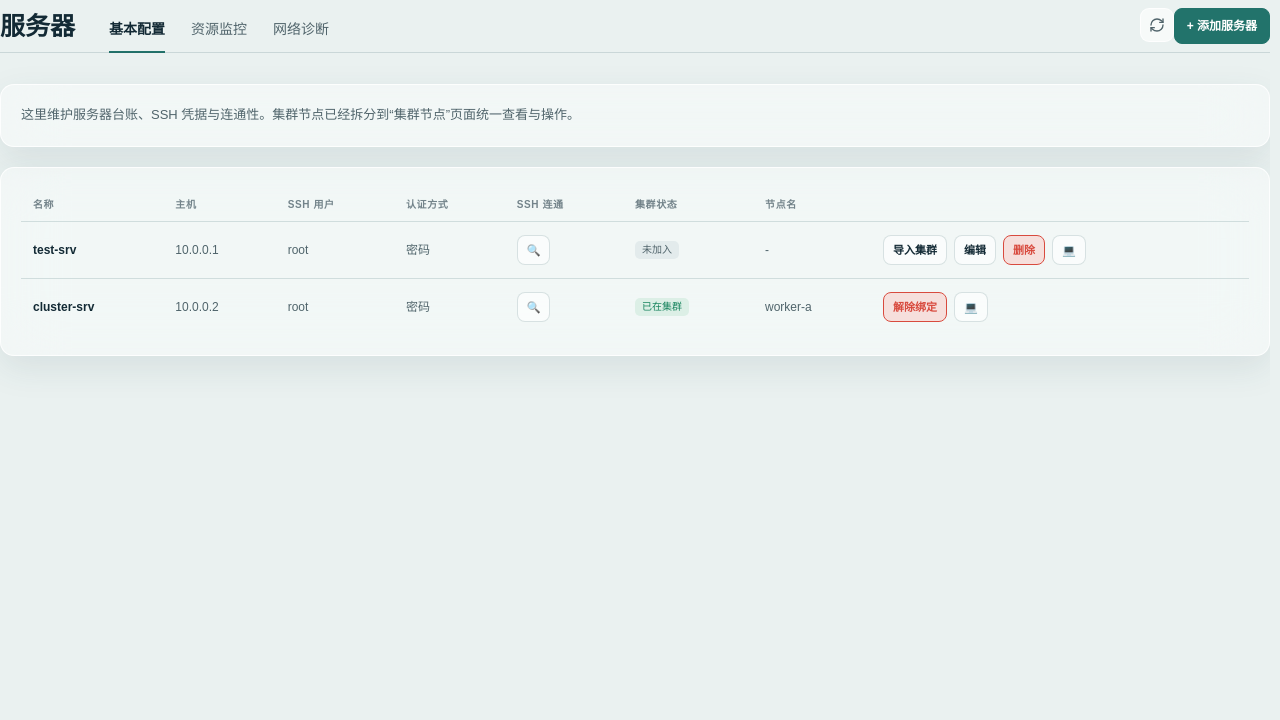
Test: Servers view › keeps the server form open and shows its error when saving fails
Click the button "+ 添加服务器" at (1222, 26), box left=1174, top=8, right=1270, bottom=44
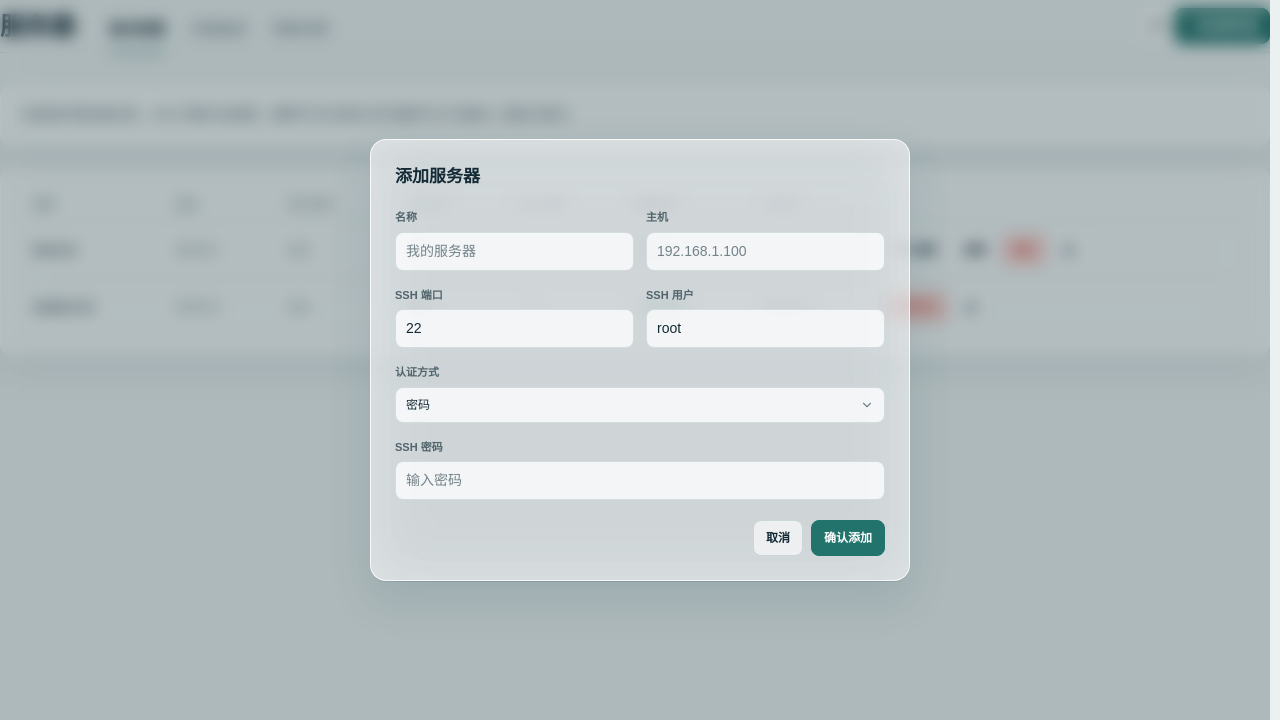
Type "edge-a" into the field with placeholder "我的服务器" at (514, 251), box left=395, top=232, right=634, bottom=271
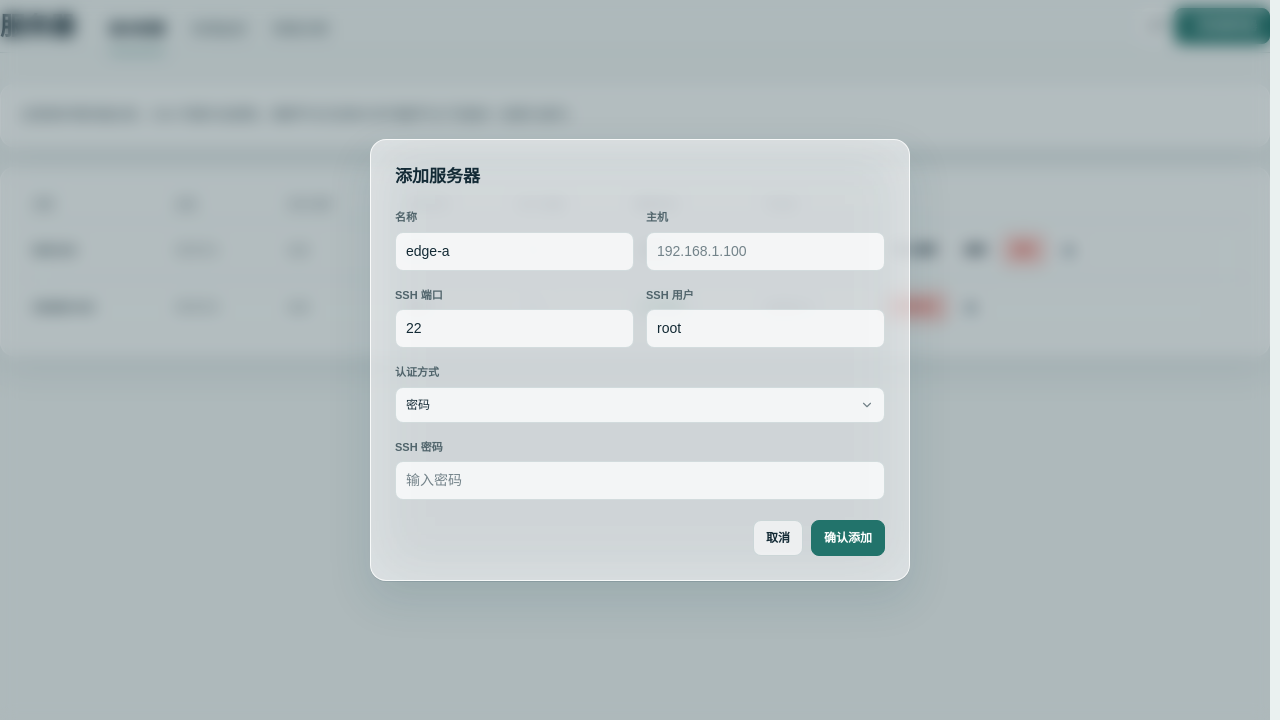
Type "10.0.0.9" into the field with placeholder "192.168.1.100" at (766, 251), box left=646, top=232, right=885, bottom=271
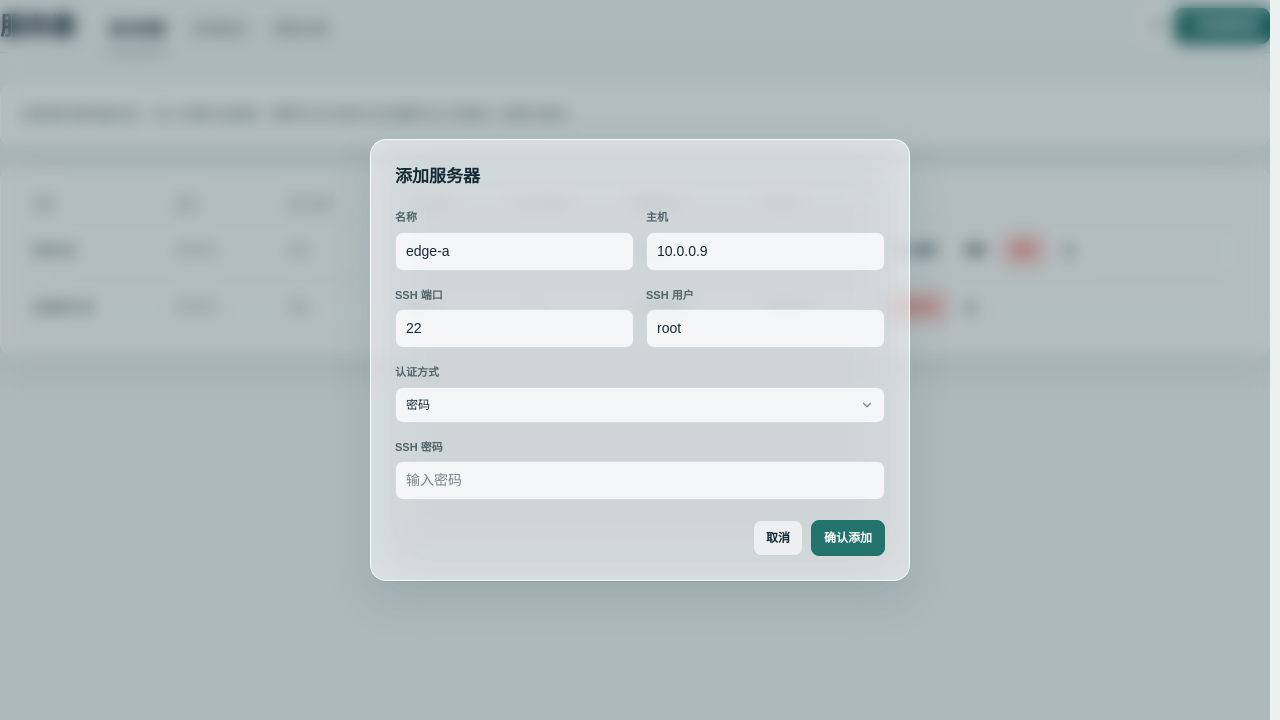
Submit the form, box left=395, top=209, right=885, bottom=556
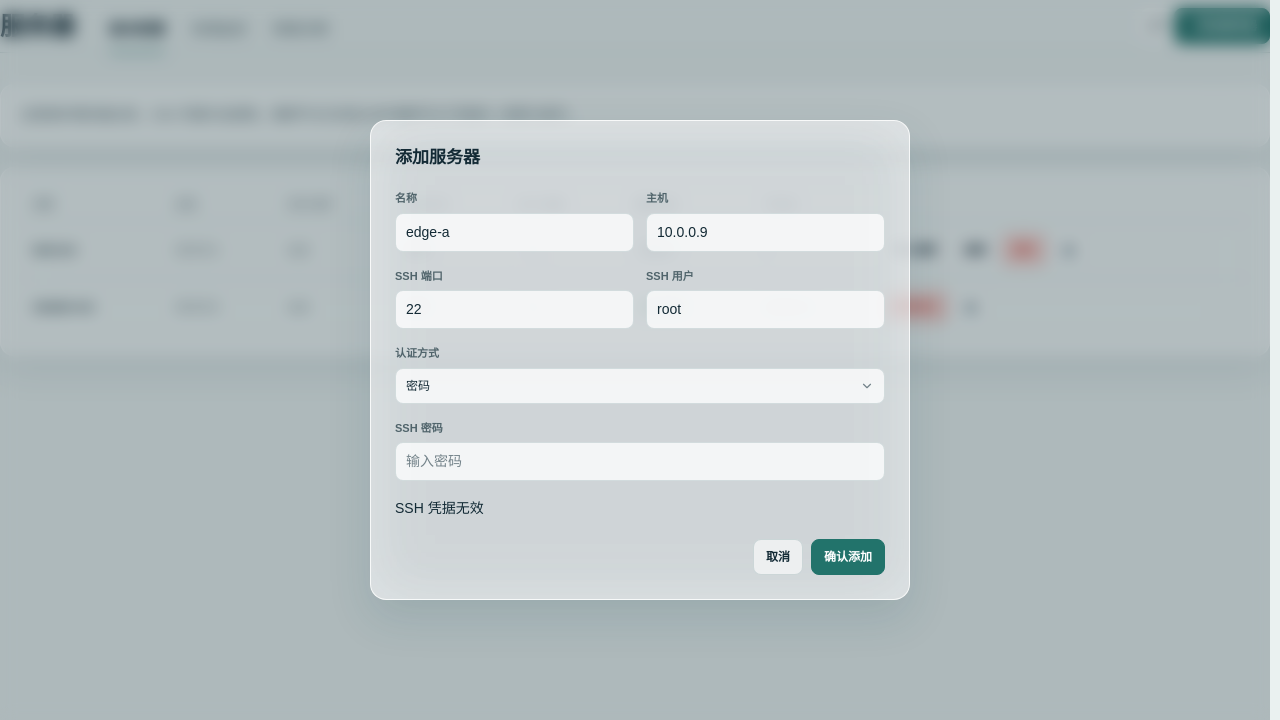
Expected: the text "SSH 凭据无效" is shown, left=395, top=500, right=484, bottom=516
